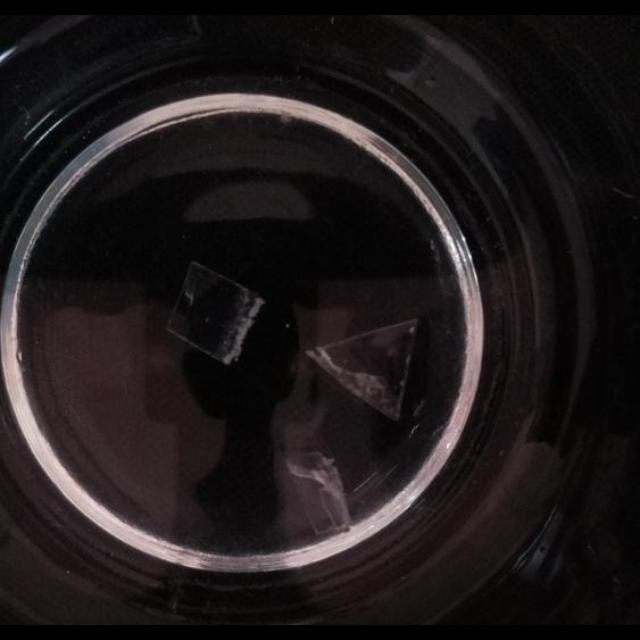Film: (160, 254, 262, 366), (308, 317, 418, 417), (283, 448, 353, 538)
